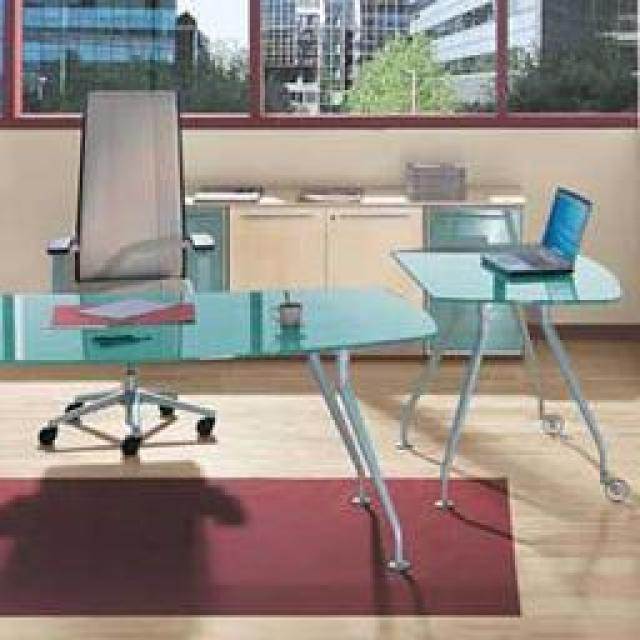carpet: (0, 475, 520, 617)
chair: (37, 87, 215, 455)
plants: (338, 28, 462, 112)
tables: (0, 285, 438, 573), (388, 245, 630, 510)
window: (0, 0, 638, 128)
